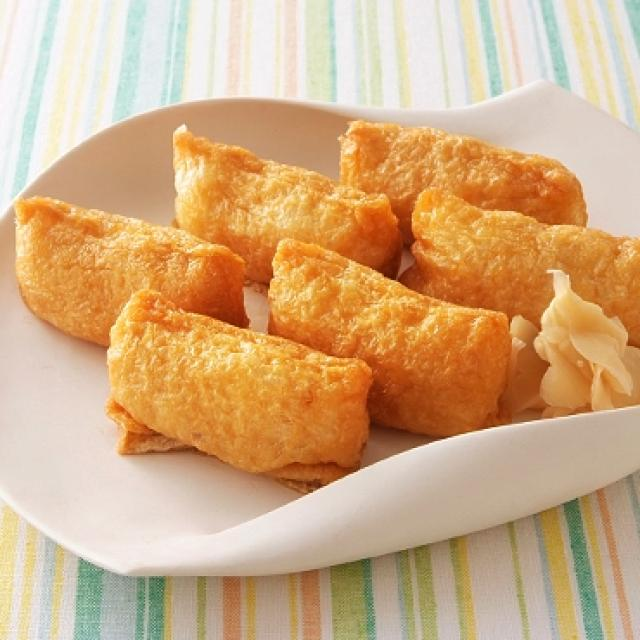寿司卷物: (1, 56, 636, 592)
